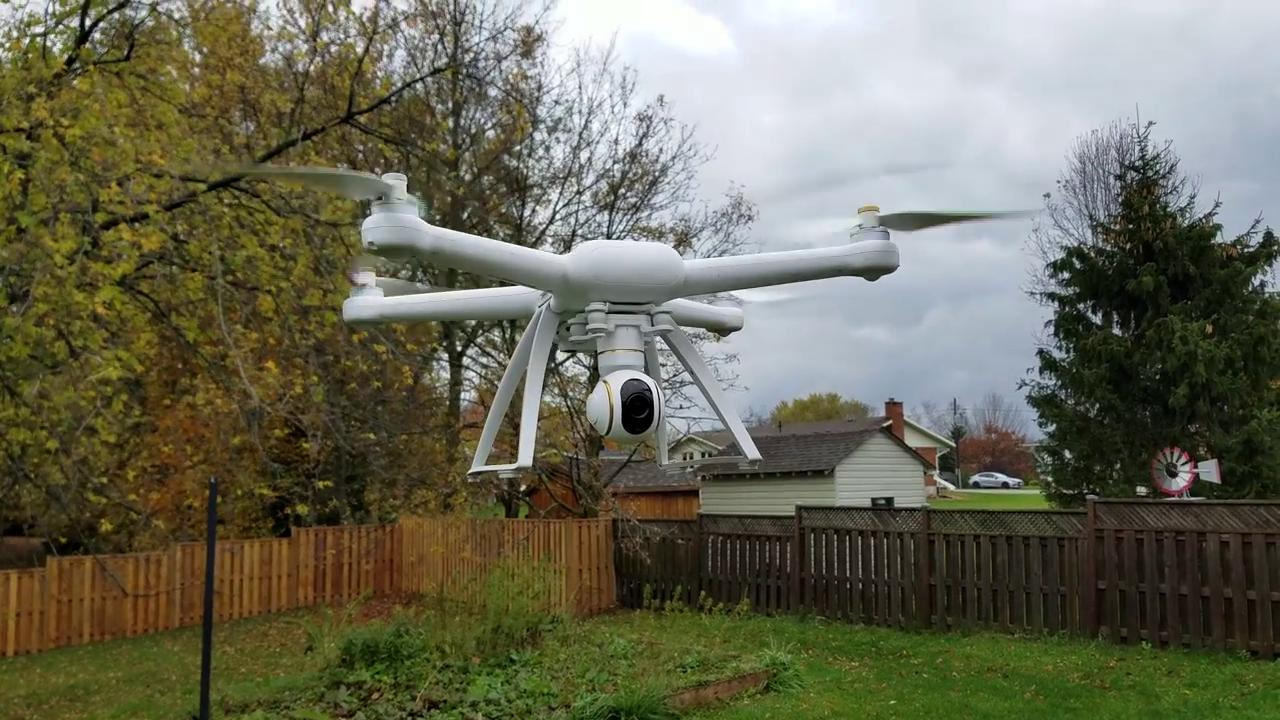drone: (215, 132, 1042, 404)
